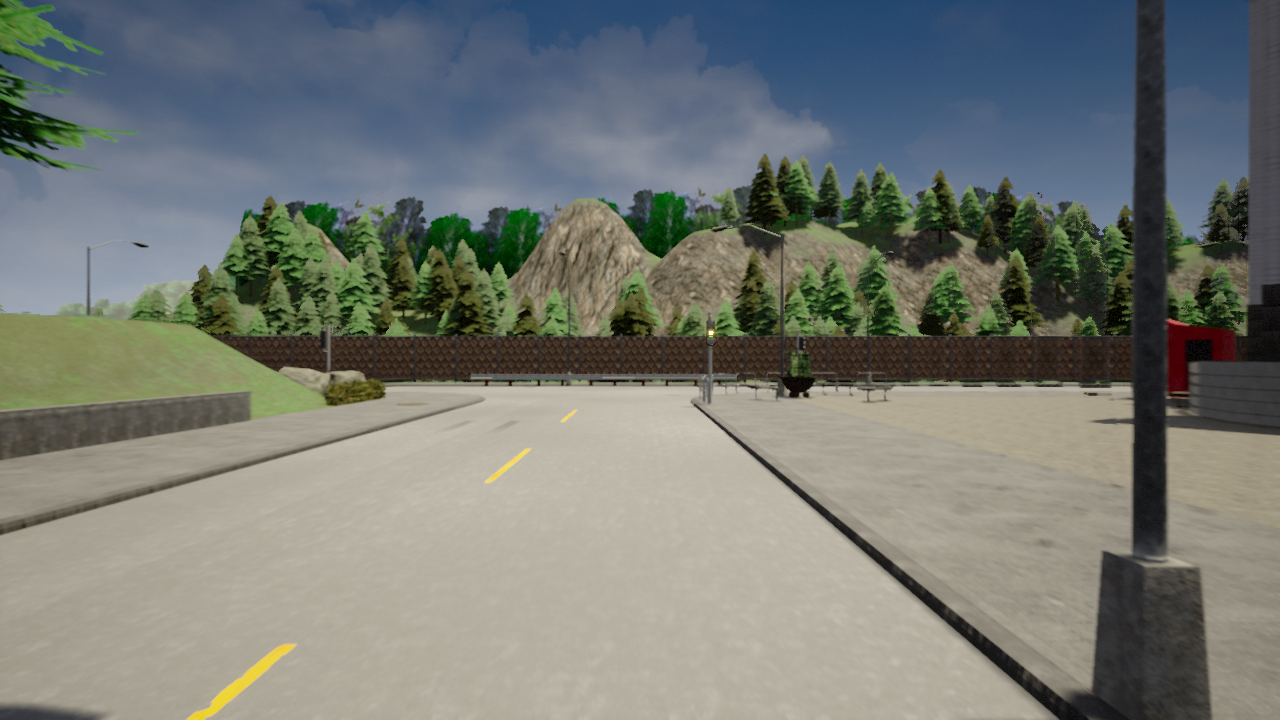yellow: (704, 319, 717, 347)
